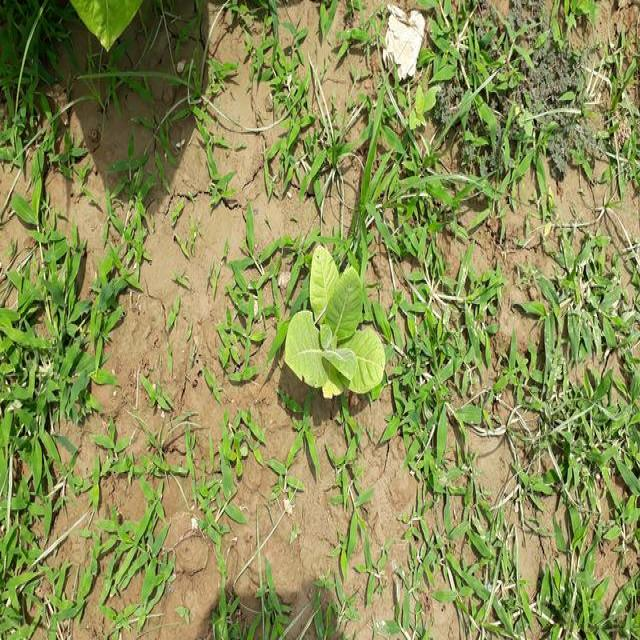crop: (281, 215, 394, 425)
